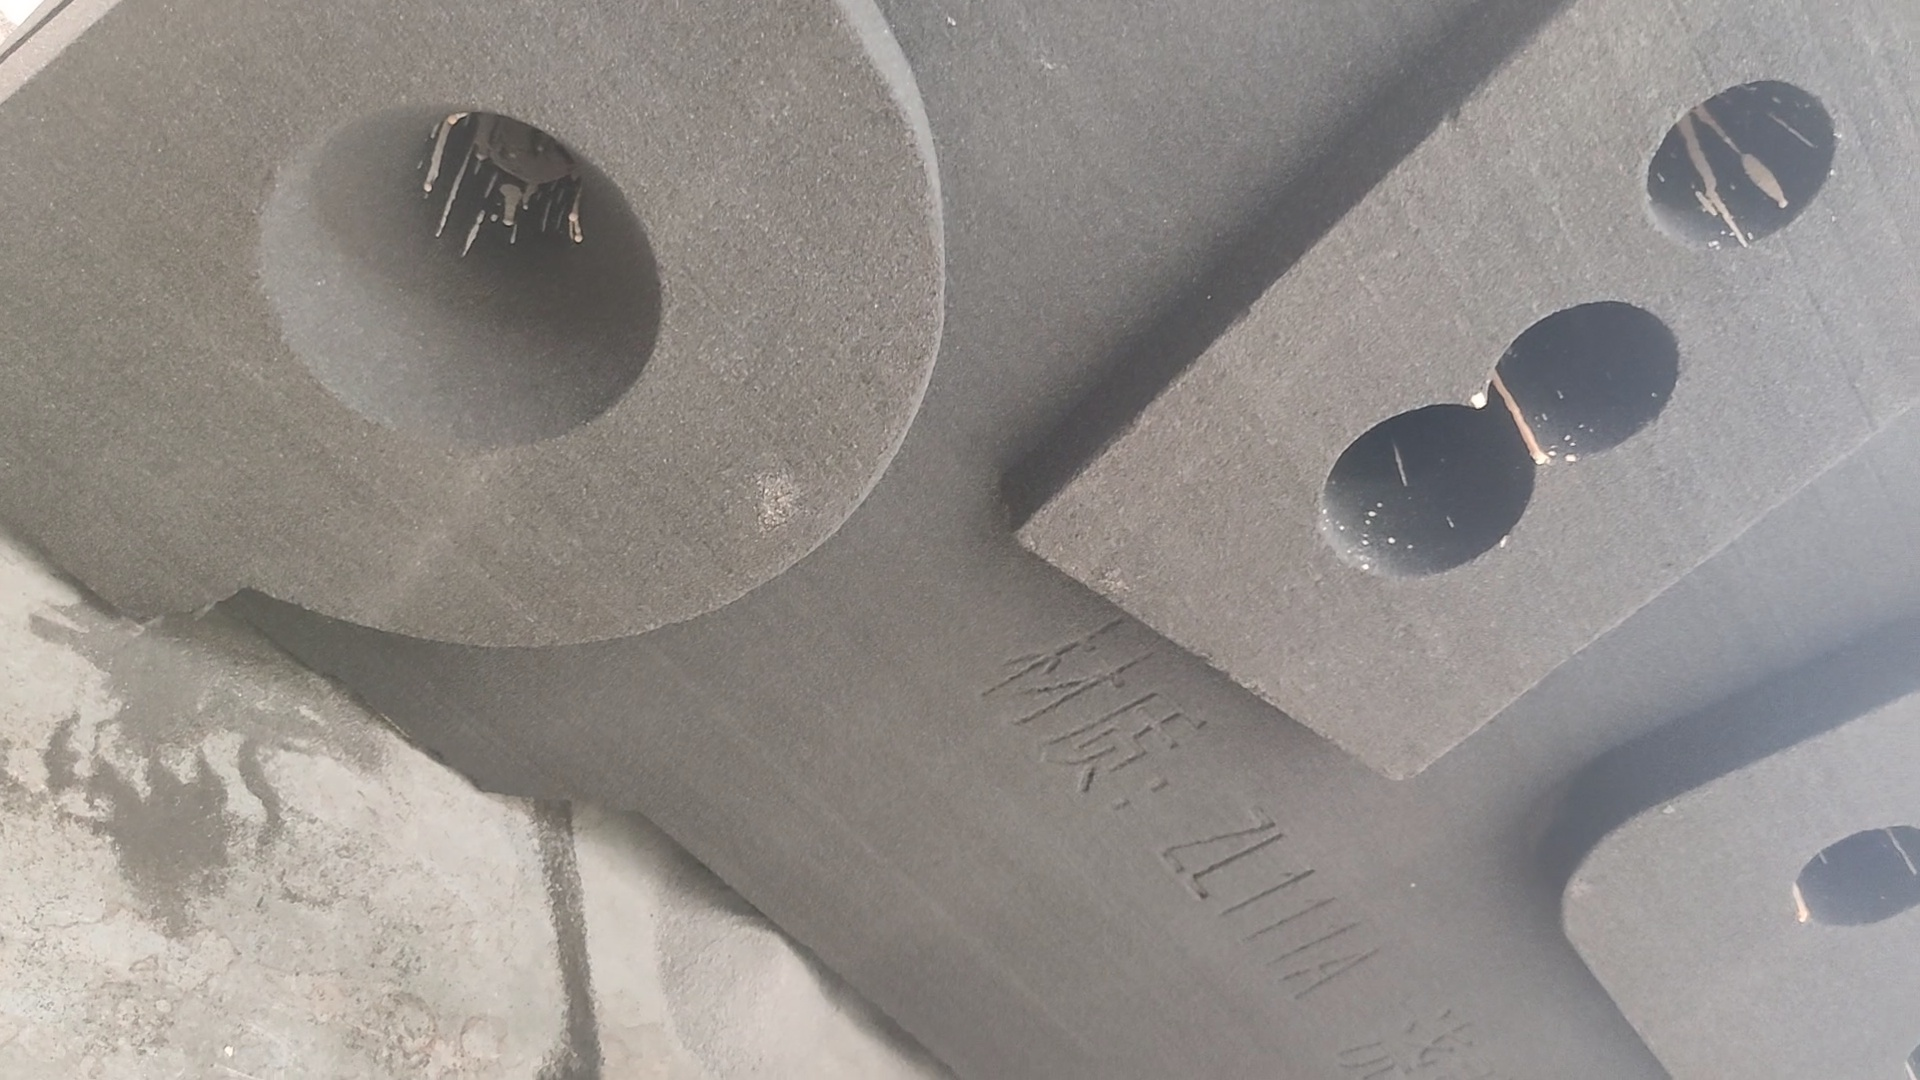pouring hole: (255, 98, 663, 454)
